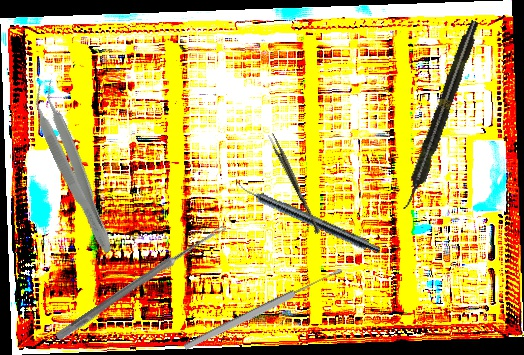Handpiece: (398, 18, 483, 213), (231, 178, 383, 256)
Surgical Spoon: (55, 221, 227, 343), (182, 266, 344, 352)
Tissue Forceps: (23, 79, 126, 257), (266, 132, 324, 235)
